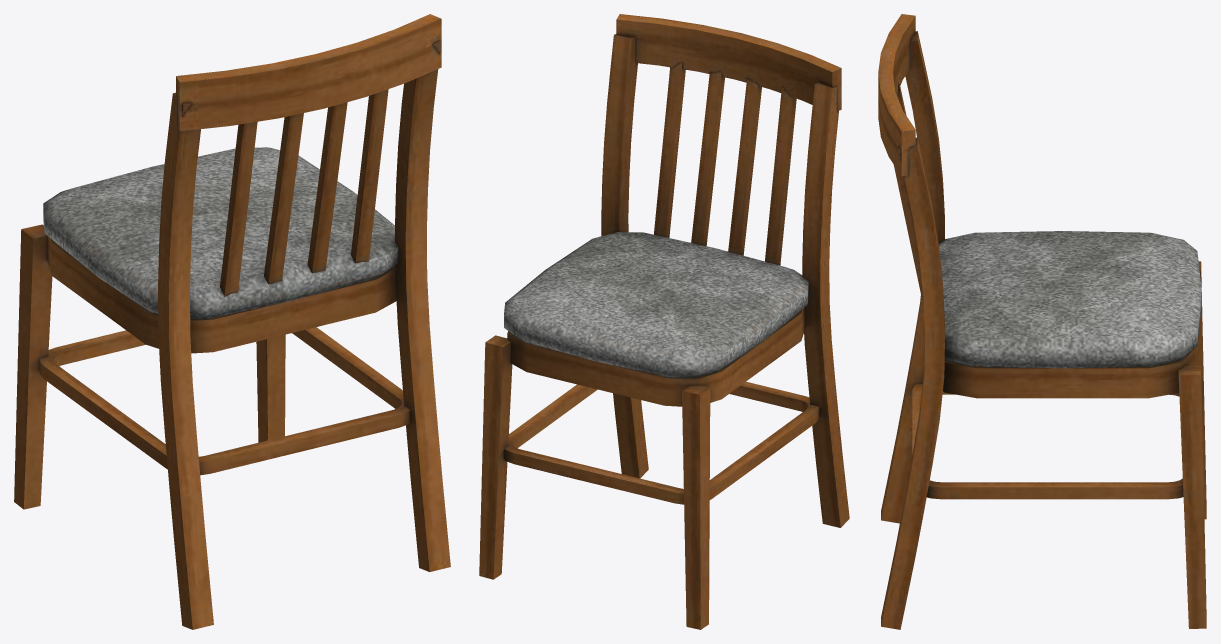
The model's file is chair_spindle_lod1_web.glb.
3 views of the same model, side by side, from view 1: azimuth 30°, elevation 25°; view 2: azimuth 150°, elevation 25°; view 3: azimuth 270°, elevation 25° (orthographic). The views are drawn at different scales.
Parts seen in each view (by area): view 1: ChairSpindle_Mesh; view 2: ChairSpindle_Mesh; view 3: ChairSpindle_Mesh.
Boxes of the visible parts, x1,y1,x2,y2 form: ChairSpindle_Mesh: (14,14,450,629); ChairSpindle_Mesh: (479,14,849,629); ChairSpindle_Mesh: (878,14,1206,629).
Bounding box in the file's own units: 0.42 × 0.8328 × 0.4965.
1 material, 1 textured.
